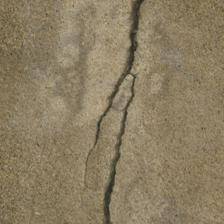Crack: (0, 0, 132, 111), (79, 47, 158, 197)
